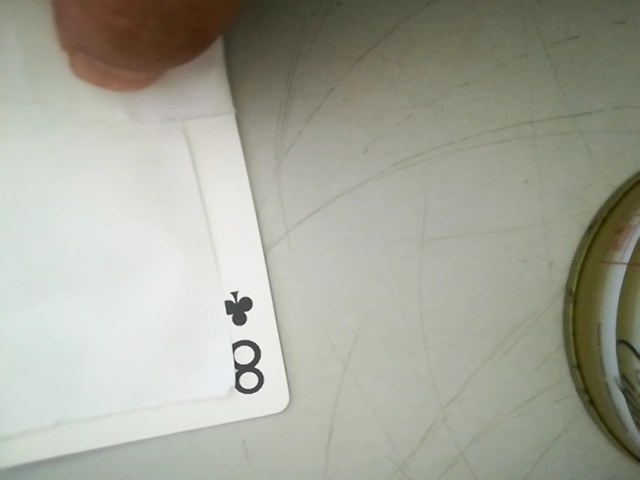mh 8: (210, 278, 278, 411)
